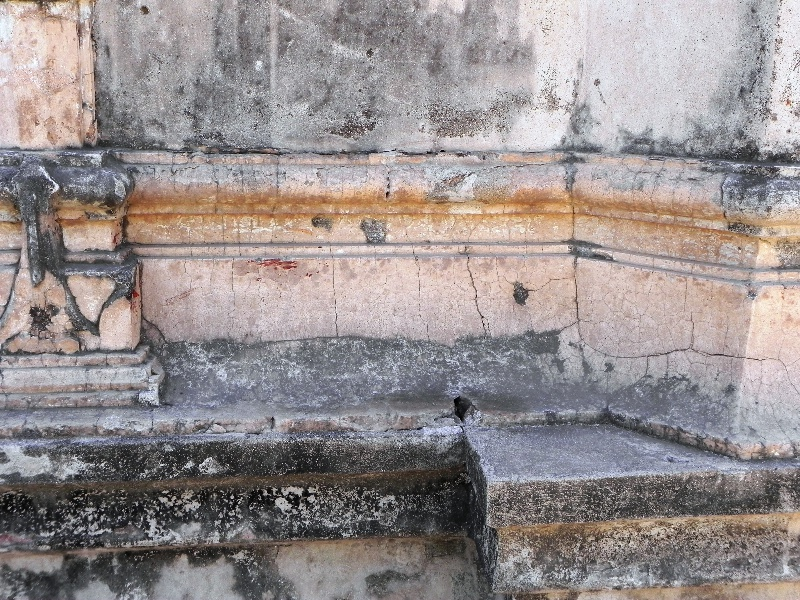Crack: (586, 329, 757, 367), (466, 262, 489, 334)
